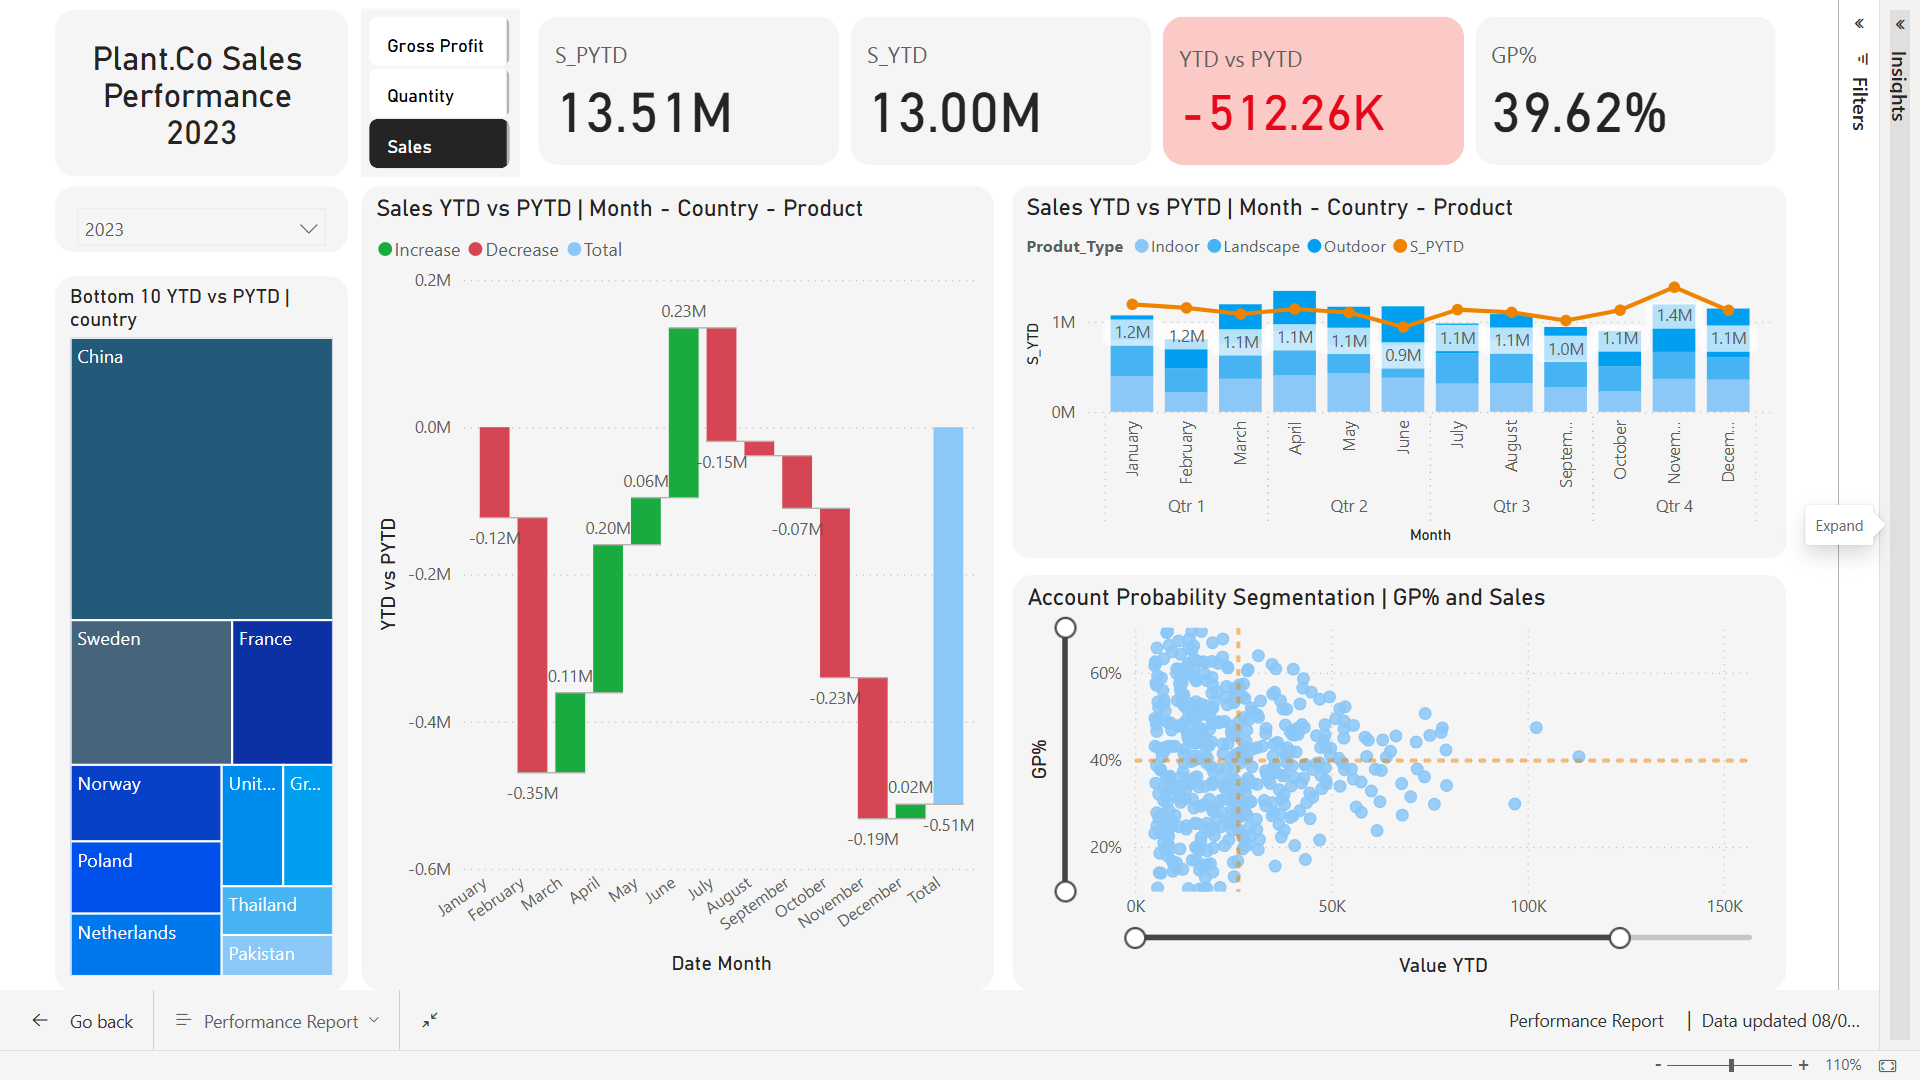

The page's visual inventory and layout, read from the dashboard file:
{"tool":"powerbi","page":{"name":"Performance Report","canvas":[1280,720],"ordinal":0},"visuals":[{"type":"cardVisual","fields":{"Data":["_Measures.S_PYTD","_Measures.S_YTD","_Measures.YTD vs PYTD","_Measures.GP%"]},"box":[358.3,7.3,912.2,118.6],"z":0},{"type":"advancedSlicerVisual","fields":{"Values":["Slicer_Values.Values"]},"box":[234.8,6.1,114.9,122.3],"z":1000},{"type":"slicer","fields":{"Values":["Dim_Date.Date.Variation.Date Hierarchy.Year"]},"box":[12.2,135.7,212.8,47.7],"z":2000},{"type":"treemap","title":"Bottom 10 YTD vs PYTD | country","fields":{"Values":["_Measures.YTD vs PYTD"],"Group":["Dim_Accounts.country"]},"box":[12.2,200.5,212.8,519.7],"z":3000},{"type":"waterfallChart","fields":{"Y":["_Measures.YTD vs PYTD"],"Category":["Dim_Date.Date.Variation.Date Hierarchy.Month","Dim_Accounts.country","Dim_Product.Produt_Type","Dim_Product.Product_Name_id"]},"box":[234.8,135.7,459.8,584.5],"z":4000},{"type":"lineStackedColumnComboChart","fields":{"Y":["_Measures.S_YTD"],"Y2":["_Measures.S_PYTD"],"Category":["Dim_Date.Date.Variation.Date Hierarchy.Quarter","Dim_Date.Date.Variation.Date Hierarchy.Month"],"Series":["Dim_Product.Produt_Type"]},"box":[708,135.7,562.5,270.2],"z":5000},{"type":"scatterChart","fields":{"Y":["_Measures.GP%"],"X":["_Measures.S_YTD"],"Category":["Dim_Accounts.Account"]},"box":[708,418.2,562.5,302],"z":6000},{"type":"card","fields":{"Values":["_Measures._Report title"]},"box":[12.2,7.3,212.8,121.1],"z":7000}]}

Visuals, with their boxes on the page's 1280x720 design canvas (x1, y1, x2, y2). These are canvas units, not pixel positions in the 1920x1080 screenshot, which may show the page scaled, cropped or inside an application window:
cardVisual - _Measures.S_PYTD x _Measures.S_YTD: [358,7,1270,126]
advancedSlicerVisual - Slicer_Values.Values: [235,6,350,128]
slicer - Dim_Date.Date.Variation.Date Hierarchy.Year: [12,136,225,183]
"Bottom 10 YTD vs PYTD | country" treemap: [12,200,225,720]
waterfallChart - _Measures.YTD vs PYTD x Dim_Date.Date.Variation.Date Hierarchy.Month: [235,136,695,720]
lineStackedColumnComboChart - _Measures.S_YTD x _Measures.S_PYTD: [708,136,1270,406]
scatterChart - _Measures.GP% x _Measures.S_YTD: [708,418,1270,720]
card - _Measures._Report title: [12,7,225,128]
